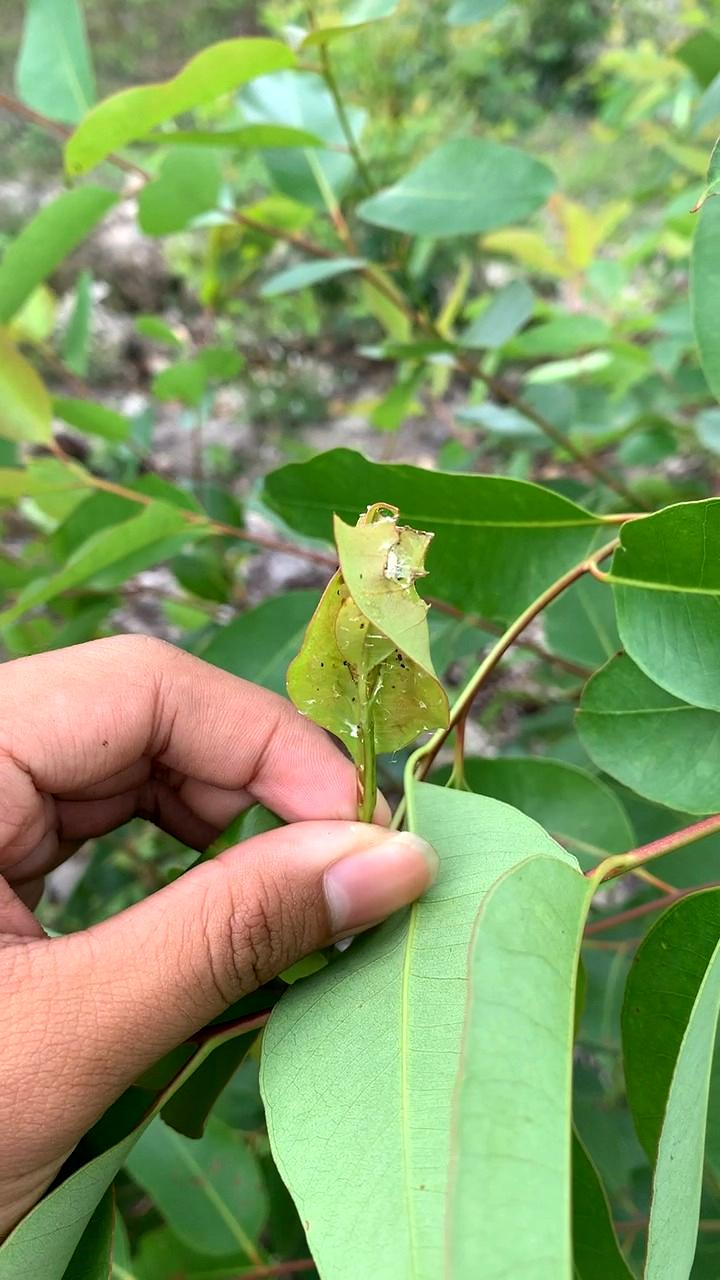Leaf Roller - Leaf: (301, 503, 465, 763)
